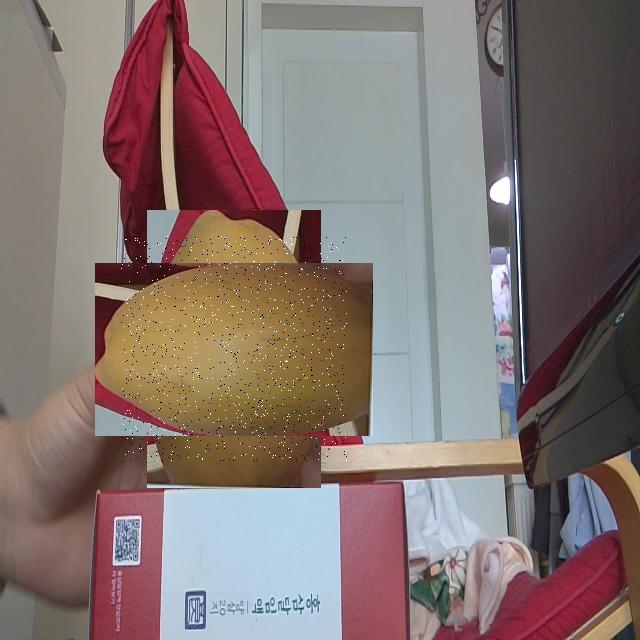pear: (121, 236, 347, 462)
